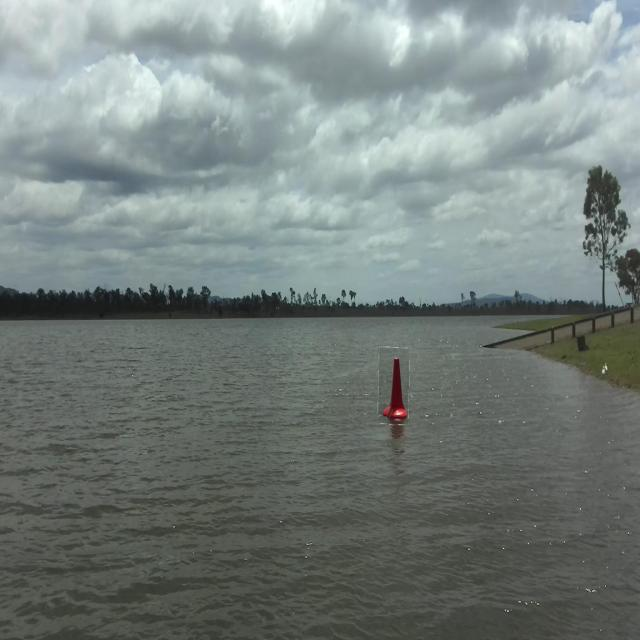Red_Buoy: (377, 342, 409, 429)
